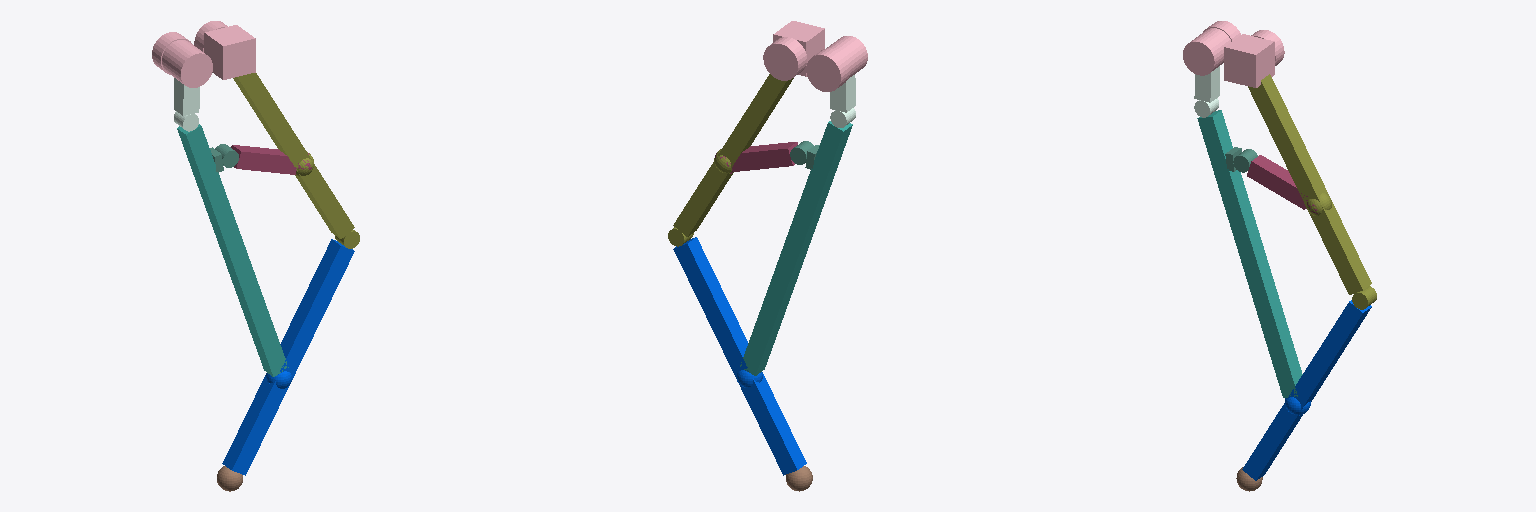
robot.urdf — Robot:
<?xml version="1.0"?>
<robot  name="Robot" >
 <link  name="L21611" >
  <visual >
   <origin  xyz="-6.30118608483749e-05 0.0 0.1742996075171044"  rpy="0.0 -0.0003615146297732963 0.0" />
   <geometry >
    <box  size="0.03999999910593033 0.03999999910593033 0.3085992387079883" />
   </geometry>
   <material  name="L21611_Material" >
    <color  rgba="0.5939270336084382 0.6126896595828943 0.2958272939731498 1.0" />
   </material>
  </visual>
  <collision  name="L21611_0_Collision" >
   <origin  xyz="-6.30118608483749e-05 0.0 0.1742996075171044"  rpy="0.0 -0.0003615146297732963 0.0" />
   <geometry >
    <box  size="0.03999999910593033 0.03999999910593033 0.3085992387079883" />
   </geometry>
  </collision>
  <visual >
   <origin  xyz="-1.3877787807814457e-17 0.0 0.28867513459481287"  rpy="0.0 0.0 0.0" />
   <geometry >
    <box  size="0.03999999910593033 0.03999999910593033 0.5373502700836954" />
   </geometry>
   <material  name="L21611_Material" >
    <color  rgba="0.5939270336084382 0.6126896595828943 0.2958272939731498 1.0" />
   </material>
  </visual>
  <collision  name="L21611_1_Collision" >
   <origin  xyz="-1.3877787807814457e-17 0.0 0.28867513459481287"  rpy="0.0 0.0 0.0" />
   <geometry >
    <box  size="0.03999999910593033 0.03999999910593033 0.5373502700836954" />
   </geometry>
  </collision>
  <visual >
   <origin  xyz="-6.301186084838877e-05 0.0 0.46297474211191725"  rpy="0.0 0.0005509207790064252 0.0" />
   <geometry >
    <box  size="0.03999999910593033 0.03999999910593033 0.18875108976403093" />
   </geometry>
   <material  name="L21611_Material" >
    <color  rgba="0.5939270336084382 0.6126896595828943 0.2958272939731498 1.0" />
   </material>
  </visual>
  <collision  name="L21611_2_Collision" >
   <origin  xyz="-6.301186084838877e-05 0.0 0.46297474211191725"  rpy="0.0 0.0005509207790064252 0.0" />
   <geometry >
    <box  size="0.03999999910593033 0.03999999910593033 0.18875108976403093" />
   </geometry>
  </collision>
  <inertial >
   <origin  xyz="-4e-05 0.0 0.30865"  rpy="0.0 0.0 0.0" />
   <mass  value="0.8921791967904164" />
   <inertia  iyy="0.32194418672004327"  izz="0.025008608624271164"  ixz="0.08265514981976187"  iyz="1.3552053965822152e-10"  ixx="0.2971734925381584"  ixy="-4.982234974145852e-11" />
  </inertial>
 </link>
 <link  name="G" >
  <visual >
   <origin  xyz="0.0 0.0 0.0"  rpy="0.0 0.0 0.0" />
   <geometry >
    <box  size="0.08 0.08 0.08" />
   </geometry>
   <material  name="G_Material" >
    <color  rgba="0.9691119426182628 0.7475000981902138 0.802280616086089 1.0" />
   </material>
  </visual>
  <collision  name="G_Collision" >
   <origin  xyz="0.0 0.0 0.0"  rpy="0.0 0.0 0.0" />
   <geometry >
    <box  size="0.08 0.08 0.08" />
   </geometry>
  </collision>
  <inertial >
   <origin  xyz="0.0 0.0 0.0"  rpy="0.0 0.0 0.0" />
   <mass  value="0.4937142857142858" />
   <inertia  iyy="0.0005266285714285715"  izz="0.0005266285714285715"  ixz="0.0"  iyz="0.0"  ixx="0.0005266285714285715"  ixy="0.0" />
  </inertial>
 </link>
 <link  name="L21612" >
  <visual >
   <origin  xyz="2.7755575615628914e-17 0.0 0.28867513459481287"  rpy="0.0 0.0 0.0" />
   <geometry >
    <box  size="0.03999999910593033 0.03999999910593033 0.5373502700836954" />
   </geometry>
   <material  name="L21612_Material" >
    <color  rgba="0.03507239608413104 0.4595935723768264 0.9333413070384142 1.0" />
   </material>
  </visual>
  <collision  name="L21612_0_Collision" >
   <origin  xyz="2.7755575615628914e-17 0.0 0.28867513459481287"  rpy="0.0 0.0 0.0" />
   <geometry >
    <box  size="0.03999999910593033 0.03999999910593033 0.5373502700836954" />
   </geometry>
  </collision>
  <visual >
   <origin  xyz="9.223931862031853e-05 0.0 0.4561069042035054"  rpy="3.141592653589793 0.000760778132684603 3.141592653589793" />
   <geometry >
    <box  size="0.03999999910593033 0.03999999910593033 0.20248680103997027" />
   </geometry>
   <material  name="L21612_Material" >
    <color  rgba="0.03507239608413104 0.4595935723768264 0.9333413070384142 1.0" />
   </material>
  </visual>
  <collision  name="L21612_1_Collision" >
   <origin  xyz="9.223931862031853e-05 0.0 0.4561069042035054"  rpy="3.141592653589793 0.000760778132684603 3.141592653589793" />
   <geometry >
    <box  size="0.03999999910593033 0.03999999910593033 0.20248680103997027" />
   </geometry>
  </collision>
  <visual >
   <origin  xyz="9.223931862029078e-05 0.0 0.16743176960869255"  rpy="0.0 0.0005509068530993311 0.0" />
   <geometry >
    <box  size="0.03999999910593033 0.03999999910593033 0.2948635909267288" />
   </geometry>
   <material  name="L21612_Material" >
    <color  rgba="0.03507239608413104 0.4595935723768264 0.9333413070384142 1.0" />
   </material>
  </visual>
  <collision  name="L21612_2_Collision" >
   <origin  xyz="9.223931862029078e-05 0.0 0.16743176960869255"  rpy="0.0 0.0005509068530993311 0.0" />
   <geometry >
    <box  size="0.03999999910593033 0.03999999910593033 0.2948635909267288" />
   </geometry>
  </collision>
  <inertial >
   <origin  xyz="6e-05 0.0 0.30407"  rpy="0.0 0.0 0.0" />
   <mass  value="0.8928267049839939" />
   <inertia  iyy="1.035466271998057"  izz="0.024972770385654396"  ixz="0.1250503383085419"  iyz="1.2557267421918618e-07"  ixx="1.0107315853387506"  ixy="-2.1906006343951932e-08" />
  </inertial>
 </link>
 <link  name="EE" >
  <visual >
   <origin  xyz="0.0 0.0 0.0"  rpy="0.0 0.0 0.0" />
   <geometry >
    <sphere  radius="0.028571428571428574" />
   </geometry>
   <material  name="EE_Material" >
    <color  rgba="0.6626769210112649 0.5312339672915674 0.4460832332150346 1.0" />
   </material>
  </visual>
  <collision  name="EE_Collision" >
   <origin  xyz="0.0 0.0 0.0"  rpy="0.0 0.0 0.0" />
   <geometry >
    <sphere  radius="0.028571428571428574" />
   </geometry>
  </collision>
  <inertial >
   <origin  xyz="0.0 0.0 0.0"  rpy="0.0 0.0 0.0" />
   <mass  value="0.09420852605517083" />
   <inertia  iyy="3.0761967691484357e-05"  izz="3.0761967691484357e-05"  ixz="0.0"  iyz="0.0"  ixx="3.0761967691484357e-05"  ixy="0.0" />
  </inertial>
 </link>
 <link  name="L21614" >
  <visual >
   <origin  xyz="0.0 0.0 0.06489"  rpy="0.0 0.0 0.0" />
   <geometry >
    <box  size="0.04 0.04 0.08977972884138244" />
   </geometry>
   <material  name="L21614_Material" >
    <color  rgba="0.8865138098454768 0.9791489879898532 0.9405348755563504 1.0" />
   </material>
  </visual>
  <collision  name="L21614_Collision" >
   <origin  xyz="0.0 0.0 0.06489"  rpy="0.0 0.0 0.0" />
   <geometry >
    <box  size="0.04 0.04 0.08977972884138244" />
   </geometry>
  </collision>
  <inertial >
   <origin  xyz="0.0 0.0 0.06489"  rpy="0.0 0.0 0.0" />
   <mass  value="0.13851729592670436" />
   <inertia  iyy="0.00011151103712629894"  izz="3.6937945580454495e-05"  ixz="0.0"  iyz="0.0"  ixx="0.00011151103712629894"  ixy="0.0" />
  </inertial>
 </link>
 <link  name="L21613" >
  <visual >
   <origin  xyz="0.0 0.0 0.06144989867021398"  rpy="0.0 0.0 0.0" />
   <geometry >
    <box  size="0.03999999910593033 0.03999999910593033 0.08289979823449765" />
   </geometry>
   <material  name="L21613_Material" >
    <color  rgba="0.28210517399101764 0.698724604126502 0.6638692433356483 1.0" />
   </material>
  </visual>
  <collision  name="L21613_0_Collision" >
   <origin  xyz="0.0 0.0 0.06144989867021398"  rpy="0.0 0.0 0.0" />
   <geometry >
    <box  size="0.03999999910593033 0.03999999910593033 0.08289979823449765" />
   </geometry>
  </collision>
  <visual >
   <origin  xyz="0.0002962163149772684 0.0 0.4095422795575895"  rpy="0.0 0.0010333995409268493 0.0" />
   <geometry >
    <box  size="0.03999999910593033 0.03999999910593033 0.5332852714382238" />
   </geometry>
   <material  name="L21613_Material" >
    <color  rgba="0.28210517399101764 0.698724604126502 0.6638692433356483 1.0" />
   </material>
  </visual>
  <collision  name="L21613_1_Collision" >
   <origin  xyz="0.0002962163149772684 0.0 0.4095422795575895"  rpy="0.0 0.0010333995409268493 0.0" />
   <geometry >
    <box  size="0.03999999910593033 0.03999999910593033 0.5332852714382238" />
   </geometry>
  </collision>
  <visual >
   <origin  xyz="0.0002962163149772684 0.0 0.3480923808873755"  rpy="0.0 0.000850970201413892 0.0" />
   <geometry >
    <box  size="0.03999999910593033 0.03999999910593033 0.656185014740093" />
   </geometry>
   <material  name="L21613_Material" >
    <color  rgba="0.28210517399101764 0.698724604126502 0.6638692433356483 1.0" />
   </material>
  </visual>
  <collision  name="L21613_2_Collision" >
   <origin  xyz="0.0002962163149772684 0.0 0.3480923808873755"  rpy="0.0 0.000850970201413892 0.0" />
   <geometry >
    <box  size="0.03999999910593033 0.03999999910593033 0.656185014740093" />
   </geometry>
  </collision>
  <inertial >
   <origin  xyz="0.0002 0.0 0.27303"  rpy="0.0 0.0 0.0" />
   <mass  value="1.0755240525510366" />
   <inertia  iyy="0.6230187380531027"  izz="0.00498517355464749"  ixz="0.01875226079602316"  iyz="-9.437754077177643e-09"  ixx="0.6183203706519558"  ixy="8.265735144602748e-10" />
  </inertial>
 </link>
 <link  name="L21615" >
  <visual >
   <origin  xyz="0.0 0.0 0.02905"  rpy="0.0 0.0 0.0" />
   <geometry >
    <box  size="0.04 0.04 0.018104307087678823" />
   </geometry>
   <material  name="L21615_Material" >
    <color  rgba="0.3867408324893238 0.6010126359204915 0.5540397028842515 1.0" />
   </material>
  </visual>
  <collision  name="L21615_Collision" >
   <origin  xyz="0.0 0.0 0.02905"  rpy="0.0 0.0 0.0" />
   <geometry >
    <box  size="0.04 0.04 0.018104307087678823" />
   </geometry>
  </collision>
  <inertial >
   <origin  xyz="0.0 0.0 0.02905"  rpy="0.0 0.0 0.0" />
   <mass  value="0.027932359506704474" />
   <inertia  iyy="4.4872542620574345e-06"  izz="7.44862920178786e-06"  ixz="0.0"  iyz="0.0"  ixx="4.4872542620574345e-06"  ixy="0.0" />
  </inertial>
 </link>
 <link  name="L21616" >
  <visual >
   <origin  xyz="-0.0 0.0 0.09665"  rpy="0.0 0.0 0.0" />
   <geometry >
    <box  size="0.04 0.04 0.15330986291309978" />
   </geometry>
   <material  name="L21616_Material" >
    <color  rgba="0.6536178921448756 0.33449775732404274 0.45724544805313605 1.0" />
   </material>
  </visual>
  <collision  name="L21616_Collision" >
   <origin  xyz="-0.0 0.0 0.09665"  rpy="0.0 0.0 0.0" />
   <geometry >
    <box  size="0.04 0.04 0.15330986291309978" />
   </geometry>
  </collision>
  <inertial >
   <origin  xyz="-0.0 0.0 0.09665"  rpy="0.0 0.0 0.0" />
   <mass  value="0.23653521706592542" />
   <inertia  iyy="0.0004948299802423478"  izz="6.307605788424677e-05"  ixz="0.0"  iyz="0.0"  ixx="0.0004948299802423478"  ixy="0.0" />
  </inertial>
 </link>
 <joint  type="revolute"  name="TL_ground" >
  <parent  link="G" />
  <child  link="L21611" />
  <origin  xyz="0.0 0.0 0.0"  rpy="3.141592653589793 0.5235987755982991 3.141592653589793" />
  <axis  xyz="0 1 0" />
  <limit  effort="10.799999999999999"  lower="-3.141592653589793"  upper="3.141592653589793"  velocity="29.845130209103036" />
  <dynamics  friction="0"  damping="0.05" />
 </joint>
 <joint  type="fixed"  name="TL_ground_G_WeldActuator" >
  <parent  link="G" />
  <child  link="TL_ground_GActuator" />
  <origin  xyz="0.0 0.05925 0.0"  rpy="-1.5707963267948966 0.5235987755982991 -3.141592653589793" />
 </joint>
 <link  name="TL_ground_GActuator" >
  <visual >
   <geometry >
    <cylinder  length="0.0385"  radius="0.0425" />
   </geometry>
   <material  name="TL_ground_GActuator_Material" >
    <color  rgba="0.9691119426182628 0.7475000981902138 0.802280616086089 0.9" />
   </material>
  </visual>
  <inertial >
   <inertia  iyy="0.006709166666666667"  izz="0.010306250000000001"  ixz="0.0"  iyz="0.0"  ixx="0.006709166666666667"  ixy="0.0" />
   <mass  value="0.1" />
  </inertial>
 </link>
 <link  name="TL_ground_GUnit" >
  <visual >
   <geometry >
    <cylinder  length="0.08"  radius="0.04" />
   </geometry>
   <material  name="TL_ground_GUnit_Material" >
    <color  rgba="0.9691119426182628 0.7475000981902138 0.802280616086089 0.9" />
   </material>
  </visual>
  <inertial >
   <inertia  iyy="0.0016666666666666666"  izz="0.002"  ixz="0.0"  iyz="0.0"  ixx="0.0016666666666666666"  ixy="0.0" />
   <mass  value="0.1" />
  </inertial>
 </link>
 <joint  type="fixed"  name="TL_ground_G_WeldUnit" >
  <parent  link="G" />
  <child  link="TL_ground_GUnit" />
  <origin  xyz="0.0 0.0 0.0"  rpy="-1.5707963267948966 0.5235987755982991 -3.141592653589793" />
 </joint>
 <joint  type="revolute"  name="TL_knee" >
  <parent  link="L21611" />
  <child  link="L21612" />
  <origin  xyz="-2.7755575615628914e-17 0.0 0.5773502691896257"  rpy="0.0 1.0471975511965979 0.0" />
  <axis  xyz="0 1 0" />
  <limit  effort="600.0"  lower="-3.141592653589793"  upper="3.141592653589793"  velocity="6.283185307179586" />
  <dynamics  friction="0"  damping="0.05" />
 </joint>
 <link  name="TL_knee_L21611Unit" >
  <visual >
   <geometry >
    <cylinder  length="0.03999999910593033"  radius="0.019999999552965164" />
   </geometry>
   <material  name="TL_knee_L21611Unit_Material" >
    <color  rgba="0.5939270336084382 0.6126896595828943 0.2958272939731498 0.9" />
   </material>
  </visual>
  <inertial >
   <inertia  iyy="0.0008333333147068819"  izz="0.0009999999776482583"  ixz="0.0"  iyz="0.0"  ixx="0.0008333333147068819"  ixy="0.0" />
   <mass  value="0.1" />
  </inertial>
 </link>
 <joint  type="fixed"  name="TL_knee_L21611_WeldUnit" >
  <parent  link="L21611" />
  <child  link="TL_knee_L21611Unit" />
  <origin  xyz="-2.7755575615628914e-17 0.0 0.5773502691896257"  rpy="1.5707963267948961 1.0471975511965979 -2.220446049250313e-16" />
 </joint>
 <joint  type="revolute"  name="TL_ee" >
  <parent  link="L21612" />
  <child  link="EE" />
  <origin  xyz="5.551115123125783e-17 0.0 0.5773502691896257"  rpy="3.141592653589793 0.5235987755982991 3.141592653589793" />
  <axis  xyz="0 1 0" />
  <limit  effort="600.0"  lower="-3.141592653589793"  upper="3.141592653589793"  velocity="6.283185307179586" />
  <dynamics  friction="0"  damping="0.05" />
 </joint>
 <link  name="TL_ee_L21612Unit" >
  <visual >
   <geometry >
    <cylinder  length="0.03999999910593033"  radius="0.019999999552965164" />
   </geometry>
   <material  name="TL_ee_L21612Unit_Material" >
    <color  rgba="0.03507239608413104 0.4595935723768264 0.9333413070384142 0.9" />
   </material>
  </visual>
  <inertial >
   <inertia  iyy="0.0008333333147068819"  izz="0.0009999999776482583"  ixz="0.0"  iyz="0.0"  ixx="0.0008333333147068819"  ixy="0.0" />
   <mass  value="0.1" />
  </inertial>
 </link>
 <joint  type="fixed"  name="TL_ee_L21612_WeldUnit" >
  <parent  link="L21612" />
  <child  link="TL_ee_L21612Unit" />
  <origin  xyz="5.551115123125783e-17 0.0 0.5773502691896257"  rpy="-1.5707963267948966 0.5235987755982991 -3.141592653589793" />
 </joint>
 <joint  type="revolute"  name="FL_branch_ground" >
  <parent  link="G" />
  <child  link="L21614" />
  <origin  xyz="-0.10455651297933616 0.0 -0.002428905253078108"  rpy="3.141592653589793 -0.019670880781618605 3.141592653589793" />
  <axis  xyz="0 1 0" />
  <limit  effort="10.799999999999999"  lower="-3.141592653589793"  upper="3.141592653589793"  velocity="29.845130209103036" />
  <dynamics  friction="0"  damping="0.05" />
 </joint>
 <joint  type="fixed"  name="FL_branch_ground_G_WeldActuator" >
  <parent  link="G" />
  <child  link="FL_branch_ground_GActuator" />
  <origin  xyz="-0.10455651297933616 0.05925 -0.002428905253078108"  rpy="-1.5707963267948966 -0.019670880781618605 -3.141592653589793" />
 </joint>
 <link  name="FL_branch_ground_GActuator" >
  <visual >
   <geometry >
    <cylinder  length="0.0385"  radius="0.0425" />
   </geometry>
   <material  name="FL_branch_ground_GActuator_Material" >
    <color  rgba="0.9691119426182628 0.7475000981902138 0.802280616086089 0.9" />
   </material>
  </visual>
  <inertial >
   <inertia  iyy="0.006709166666666667"  izz="0.010306250000000001"  ixz="0.0"  iyz="0.0"  ixx="0.006709166666666667"  ixy="0.0" />
   <mass  value="0.1" />
  </inertial>
 </link>
 <link  name="FL_branch_ground_GUnit" >
  <visual >
   <geometry >
    <cylinder  length="0.08"  radius="0.04" />
   </geometry>
   <material  name="FL_branch_ground_GUnit_Material" >
    <color  rgba="0.9691119426182628 0.7475000981902138 0.802280616086089 0.9" />
   </material>
  </visual>
  <inertial >
   <inertia  iyy="0.0016666666666666666"  izz="0.002"  ixz="0.0"  iyz="0.0"  ixx="0.0016666666666666666"  ixy="0.0" />
   <mass  value="0.1" />
  </inertial>
 </link>
 <joint  type="fixed"  name="FL_branch_ground_G_WeldUnit" >
  <parent  link="G" />
  <child  link="FL_branch_ground_GUnit" />
  <origin  xyz="-0.10455651297933616 0.0 -0.002428905253078108"  rpy="-1.5707963267948966 -0.019670880781618605 -3.141592653589793" />
 </joint>
 <joint  type="revolute"  name="FL_branch_j0" >
  <parent  link="L21614" />
  <child  link="L21613" />
  <origin  xyz="4.579669976578771e-16 0.0 0.12977972884138245"  rpy="0.0 -0.35447055439720576 0.0" />
  <axis  xyz="0 1 0" />
  <limit  effort="600.0"  lower="-3.141592653589793"  upper="3.141592653589793"  velocity="6.283185307179586" />
  <dynamics  friction="0"  damping="0.05" />
 </joint>
 <link  name="FL_branch_j0_L21614Unit" >
  <visual >
   <geometry >
    <cylinder  length="0.04"  radius="0.02" />
   </geometry>
   <material  name="FL_branch_j0_L21614Unit_Material" >
    <color  rgba="0.8865138098454768 0.9791489879898532 0.9405348755563504 0.9" />
   </material>
  </visual>
  <inertial >
   <inertia  iyy="0.0008333333333333333"  izz="0.001"  ixz="0.0"  iyz="0.0"  ixx="0.0008333333333333333"  ixy="0.0" />
   <mass  value="0.1" />
  </inertial>
 </link>
 <joint  type="fixed"  name="FL_branch_j0_L21614_WeldUnit" >
  <parent  link="L21614" />
  <child  link="FL_branch_j0_L21614Unit" />
  <origin  xyz="4.579669976578771e-16 0.0 0.12977972884138245"  rpy="1.5707963267948966 -0.35447055439720576 0.0" />
 </joint>
 <joint  type="revolute"  name="FL_branch_j1" >
  <parent  link="L21613" />
  <child  link="L21615" />
  <origin  xyz="0.0 0.0 0.12289979734042797"  rpy="0.0 -1.3613418486355982 0.0" />
  <axis  xyz="0 1 0" />
  <limit  effort="600.0"  lower="-3.141592653589793"  upper="3.141592653589793"  velocity="6.283185307179586" />
  <dynamics  friction="0"  damping="0.05" />
 </joint>
 <link  name="FL_branch_j1_L21613Unit" >
  <visual >
   <geometry >
    <cylinder  length="0.03999999910593033"  radius="0.019999999552965164" />
   </geometry>
   <material  name="FL_branch_j1_L21613Unit_Material" >
    <color  rgba="0.28210517399101764 0.698724604126502 0.6638692433356483 0.9" />
   </material>
  </visual>
  <inertial >
   <inertia  iyy="0.0008333333147068819"  izz="0.0009999999776482583"  ixz="0.0"  iyz="0.0"  ixx="0.0008333333147068819"  ixy="0.0" />
   <mass  value="0.1" />
  </inertial>
 </link>
 <joint  type="fixed"  name="FL_branch_j1_L21613_WeldUnit" >
  <parent  link="L21613" />
  <child  link="FL_branch_j1_L21613Unit" />
  <origin  xyz="0.0 0.0 0.12289979734042797"  rpy="1.5707963267948966 -1.3613418486355982 -1.1102230246251565e-16" />
 </joint>
 <joint  type="revolute"  name="FL_branch_j2" >
  <parent  link="L21615" />
  <child  link="L21616" />
  <origin  xyz="0.0 0.0 0.05810430708767882"  rpy="0.0 0.4455006844331666 0.0" />
  <axis  xyz="0 1 0" />
  <limit  effort="600.0"  lower="-3.141592653589793"  upper="3.141592653589793"  velocity="6.283185307179586" />
  <dynamics  friction="0"  damping="0.05" />
 </joint>
 <link  name="FL_branch_j2_L21615Unit" >
  <visual >
   <geometry >
    <cylinder  length="0.04"  radius="0.02" />
   </geometry>
   <material  name="FL_branch_j2_L21615Unit_Material" >
    <color  rgba="0.3867408324893238 0.6010126359204915 0.5540397028842515 0.9" />
   </material>
  </visual>
  <inertial >
   <inertia  iyy="0.0008333333333333333"  izz="0.001"  ixz="0.0"  iyz="0.0"  ixx="0.0008333333333333333"  ixy="0.0" />
   <mass  value="0.1" />
  </inertial>
 </link>
 <joint  type="fixed"  name="FL_branch_j2_L21615_WeldUnit" >
  <parent  link="L21615" />
  <child  link="FL_branch_j2_L21615Unit" />
  <origin  xyz="0.0 0.0 0.05810430708767882"  rpy="1.5707963267948963 0.4455006844331666 0.0" />
 </joint>
 <link  name="FL_branch_top_L21611Pseudo" >
  <visual >
   <geometry >
    <sphere  radius="0.02857142793280738" />
   </geometry>
   <material  name="FL_branch_top_L21611Pseudo_Material" >
    <color  rgba="0.5939270336084382 0.6126896595828943 0.2958272939731498 0.5" />
   </material>
  </visual>
  <inertial >
   <mass  value="0.05" />
   <inertia  iyy="1.632652988239212e-05"  izz="1.632652988239212e-05"  ixz="0.0"  iyz="0.0"  ixx="1.632652988239212e-05"  ixy="0.0" />
  </inertial>
 </link>
 <joint  type="revolute"  name="FL_branch_top_L21611_revolute" >
  <parent  link="L21611" />
  <child  link="FL_branch_top_L21611Pseudo" />
  <origin  xyz="-0.0001260237216967498 0.0 0.3485992150342088"  rpy="0.0 0.0 0.0" />
  <axis  xyz="0 1 0" />
  <limit  effort="600.0"  lower="-3.141592653589793"  upper="3.141592653589793"  velocity="6.283185307179586" />
  <dynamics  friction="0"  damping="0.05" />
 </joint>
 <joint  type="fixed"  name="FL_branch_top_L21611_Weld" >
  <parent  link="L21616" />
  <child  link="FL_branch_top_L21616Pseudo" />
  <origin  xyz="0.0 0.0 0.19330986291309976"  rpy="0.0 0.72704206221972 0.0" />
 </joint>
 <link  name="FL_branch_top_L21616Pseudo" >
  <visual >
   <geometry >
    <sphere  radius="0.028571428571428574" />
   </geometry>
   <material  name="FL_branch_top_L21616Pseudo_Material" >
    <color  rgba="0.6536178921448756 0.33449775732404274 0.45724544805313605 0.5" />
   </material>
  </visual>
  <inertial >
   <mass  value="0.05" />
   <inertia  iyy="1.6326530612244903e-05"  izz="1.6326530612244903e-05"  ixz="0.0"  iyz="0.0"  ixx="1.6326530612244903e-05"  ixy="0.0" />
  </inertial>
 </link>
 <link  name="FL_branch_bot_L21612Pseudo" >
  <visual >
   <geometry >
    <sphere  radius="0.02857142793280738" />
   </geometry>
   <material  name="FL_branch_bot_L21612Pseudo_Material" >
    <color  rgba="0.03507239608413104 0.4595935723768264 0.9333413070384142 0.5" />
   </material>
  </visual>
  <inertial >
   <mass  value="0.05" />
   <inertia  iyy="1.632652988239212e-05"  izz="1.632652988239212e-05"  ixz="0.0"  iyz="0.0"  ixx="1.632652988239212e-05"  ixy="0.0" />
  </inertial>
 </link>
 <joint  type="revolute"  name="FL_branch_bot_L21612_revolute" >
  <parent  link="L21612" />
  <child  link="FL_branch_bot_L21612Pseudo" />
  <origin  xyz="0.00018447863724058156 0.0 0.3348635392173851"  rpy="3.141592653589793 0.5235987755982991 3.141592653589793" />
  <axis  xyz="0 1 0" />
  <limit  effort="600.0"  lower="-3.141592653589793"  upper="3.141592653589793"  velocity="6.283185307179586" />
  <dynamics  friction="0"  damping="0.05" />
 </joint>
 <joint  type="fixed"  name="FL_branch_bot_L21612_Weld" >
  <parent  link="L21613" />
  <child  link="FL_branch_bot_L21613Pseudo" />
  <origin  xyz="0.0005924326299545091 0.0 0.696184761774751"  rpy="3.141592653589793 -0.3347996736155874 3.141592653589793" />
 </joint>
 <link  name="FL_branch_bot_L21613Pseudo" >
  <visual >
   <geometry >
    <sphere  radius="0.02857142793280738" />
   </geometry>
   <material  name="FL_branch_bot_L21613Pseudo_Material" >
    <color  rgba="0.28210517399101764 0.698724604126502 0.6638692433356483 0.5" />
   </material>
  </visual>
  <inertial >
   <mass  value="0.05" />
   <inertia  iyy="1.632652988239212e-05"  izz="1.632652988239212e-05"  ixz="0.0"  iyz="0.0"  ixx="1.632652988239212e-05"  ixy="0.0" />
  </inertial>
 </link>
</robot>

--- What the picture shows (computed from the rendered views, not written in the file) ---
Views: 3 orthographic renders of the robot side by side, from view 1: azimuth 30°, elevation 25°; view 2: azimuth 150°, elevation 25°; view 3: azimuth 330°, elevation 25°.
Robot: Robot — 21 links, 20 joints (9 revolute, 11 fixed); root link G; default pose: all joints at 0.
Visible links, largest first — view 1: L21613, L21612, L21611, G, FL_branch_ground_GUnit, L21616, L21614; view 2: L21613, L21612, L21611, FL_branch_ground_GActuator, TL_ground_GActuator, L21616, G, FL_branch_ground_GUnit, L21614; view 3: L21613, L21611, L21612, G, FL_branch_ground_GUnit, L21616, L21614.
Link boxes in pixels (x1=…): L21613: x1=177, y1=124, x2=288, y2=376; L21612: x1=222, y1=239, x2=354, y2=475; L21611: x1=233, y1=73, x2=354, y2=238; G: x1=204, y1=25, x2=255, y2=79; FL_branch_ground_GUnit: x1=162, y1=40, x2=212, y2=87; L21616: x1=231, y1=145, x2=298, y2=174; L21614: x1=174, y1=78, x2=199, y2=115; L21613: x1=740, y1=121, x2=852, y2=375; L21612: x1=673, y1=237, x2=806, y2=475; L21611: x1=673, y1=74, x2=793, y2=236; FL_branch_ground_GActuator: x1=806, y1=48, x2=849, y2=91; TL_ground_GActuator: x1=763, y1=37, x2=806, y2=80; L21616: x1=732, y1=142, x2=797, y2=171; G: x1=773, y1=21, x2=824, y2=76; FL_branch_ground_GUnit: x1=826, y1=36, x2=867, y2=78; L21614: x1=830, y1=75, x2=855, y2=112; L21613: x1=1197, y1=110, x2=1302, y2=397; L21611: x1=1248, y1=74, x2=1371, y2=294; L21612: x1=1242, y1=300, x2=1371, y2=480; G: x1=1224, y1=34, x2=1274, y2=87; FL_branch_ground_GUnit: x1=1183, y1=28, x2=1230, y2=75; L21616: x1=1247, y1=155, x2=1307, y2=209; L21614: x1=1194, y1=66, x2=1219, y2=102.
Size in the robot's own frame: 0.4557 by 0.1185 by 1.07 metres.
Geometry: primitives only (box / cylinder / sphere), no mesh files.
